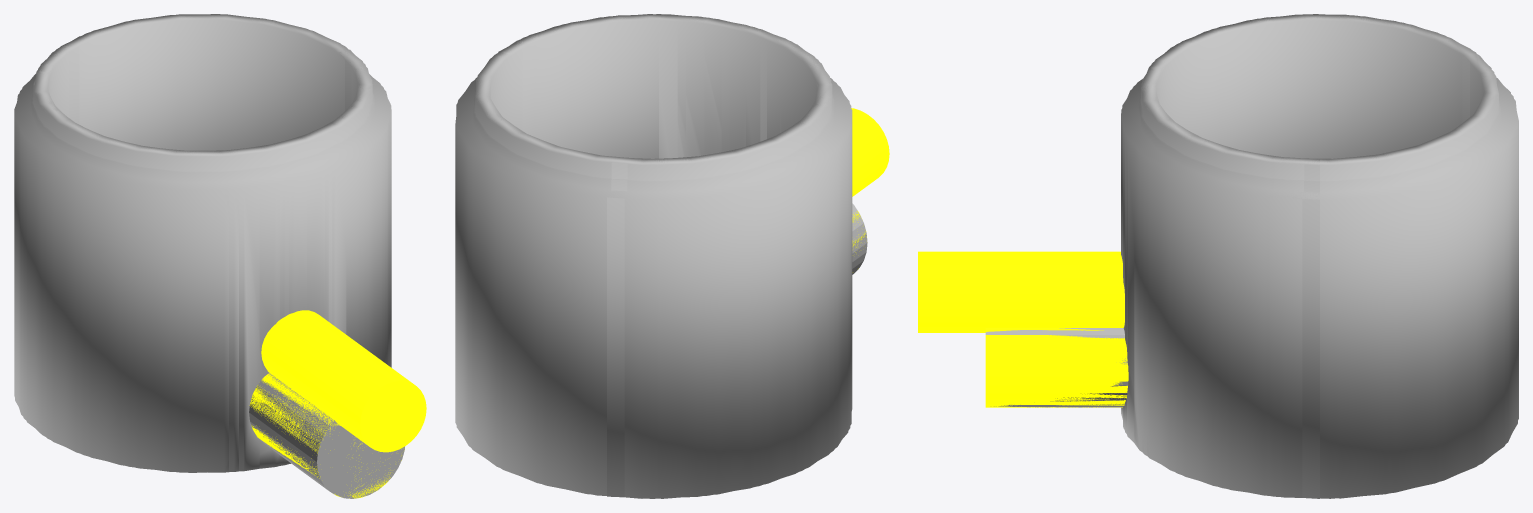
The model's file is LOT129_9fbcce4f.glb.
3 renders of one model, left to right at view 1: azimuth 30°, elevation 25°; view 2: azimuth 150°, elevation 25°; view 3: azimuth 270°, elevation 25°, orthographic. The views are drawn at different scales.
Parts seen in each view (by area): view 1: 1200x1.219mr_Obj, Cylinder.002, Cylinder; view 2: 1200x1.219mr_Obj, Cylinder.002; view 3: 1200x1.219mr_Obj, Cylinder.002, Cylinder.
Part boxes in pixels (<box>): 1200x1.219mr_Obj: <box>14,14,404,498</box>; Cylinder.002: <box>261,310,426,452</box>; Cylinder: <box>249,373,401,498</box>; 1200x1.219mr_Obj: <box>455,14,867,498</box>; Cylinder.002: <box>851,108,889,196</box>; 1200x1.219mr_Obj: <box>985,14,1518,498</box>; Cylinder.002: <box>918,251,1124,332</box>; Cylinder: <box>985,328,1128,407</box>.
Size of the model in its own units: 1.47 by 1.33 by 2.22.
